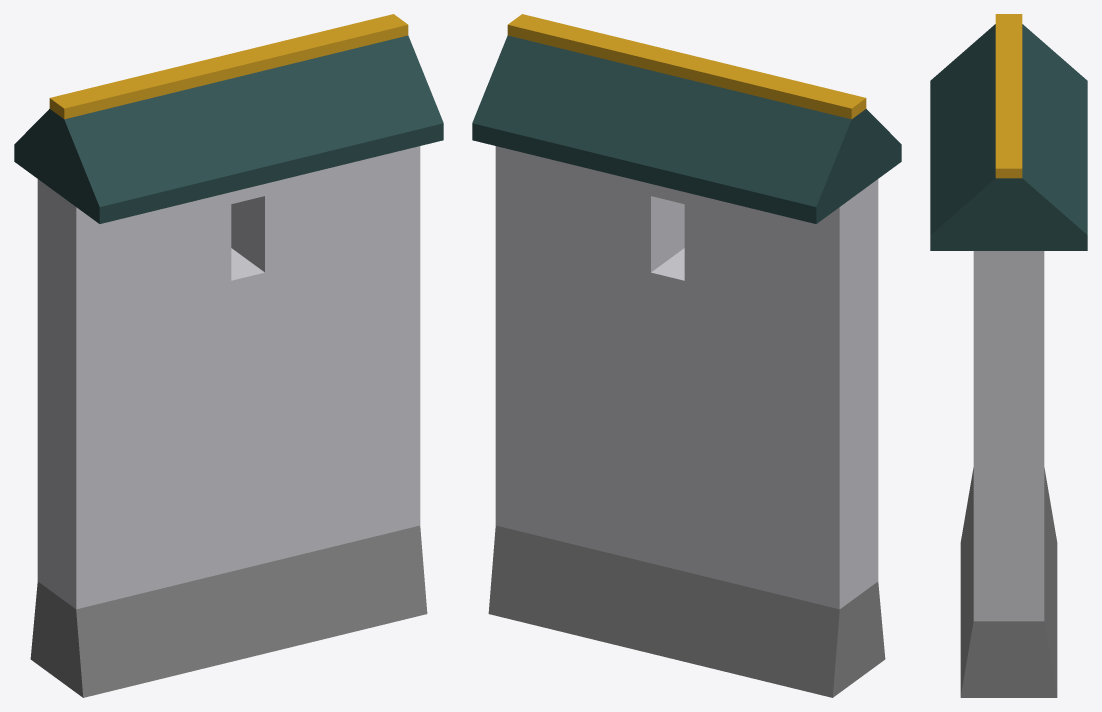
File: Asian_Prop_Building_Fence_Wall_Simple_Small_Embrasure_03.FBX
3 renders of one model, left to right at view 1: azimuth 30°, elevation 25°; view 2: azimuth 150°, elevation 25°; view 3: azimuth 270°, elevation 25°, orthographic. The views are drawn at different scales.
Visible parts, largest first — view 1: Asian_Prop_Building_Fence_Wall_Simple_Small_Embrasure_03; view 2: Asian_Prop_Building_Fence_Wall_Simple_Small_Embrasure_03; view 3: Asian_Prop_Building_Fence_Wall_Simple_Small_Embrasure_03.
Part boxes in pixels (x1=…): Asian_Prop_Building_Fence_Wall_Simple_Small_Embrasure_03: x1=14, y1=14, x2=443, y2=697; Asian_Prop_Building_Fence_Wall_Simple_Small_Embrasure_03: x1=472, y1=14, x2=901, y2=697; Asian_Prop_Building_Fence_Wall_Simple_Small_Embrasure_03: x1=930, y1=14, x2=1087, y2=697.
Size of the model in its own units: 2584 by 4128 by 1112.
